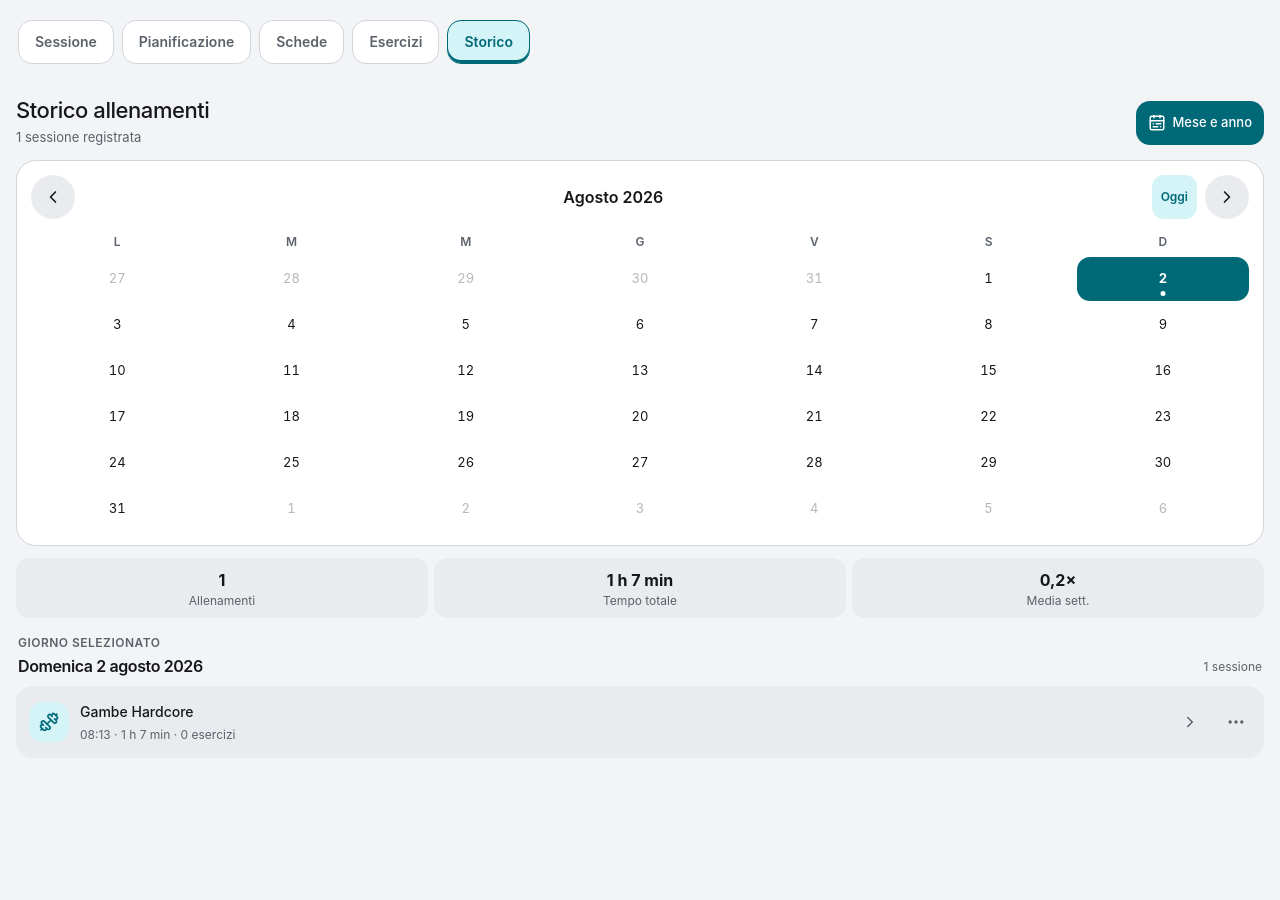
Workout Improvements & History Edit Suite › 4. Historical Workout Editing Flow › TrainingView full integration: edit from history switches sub-tab to session in edit mode
Click the button named "opzioni" at [1236, 722], box [1214, 700, 1258, 744]
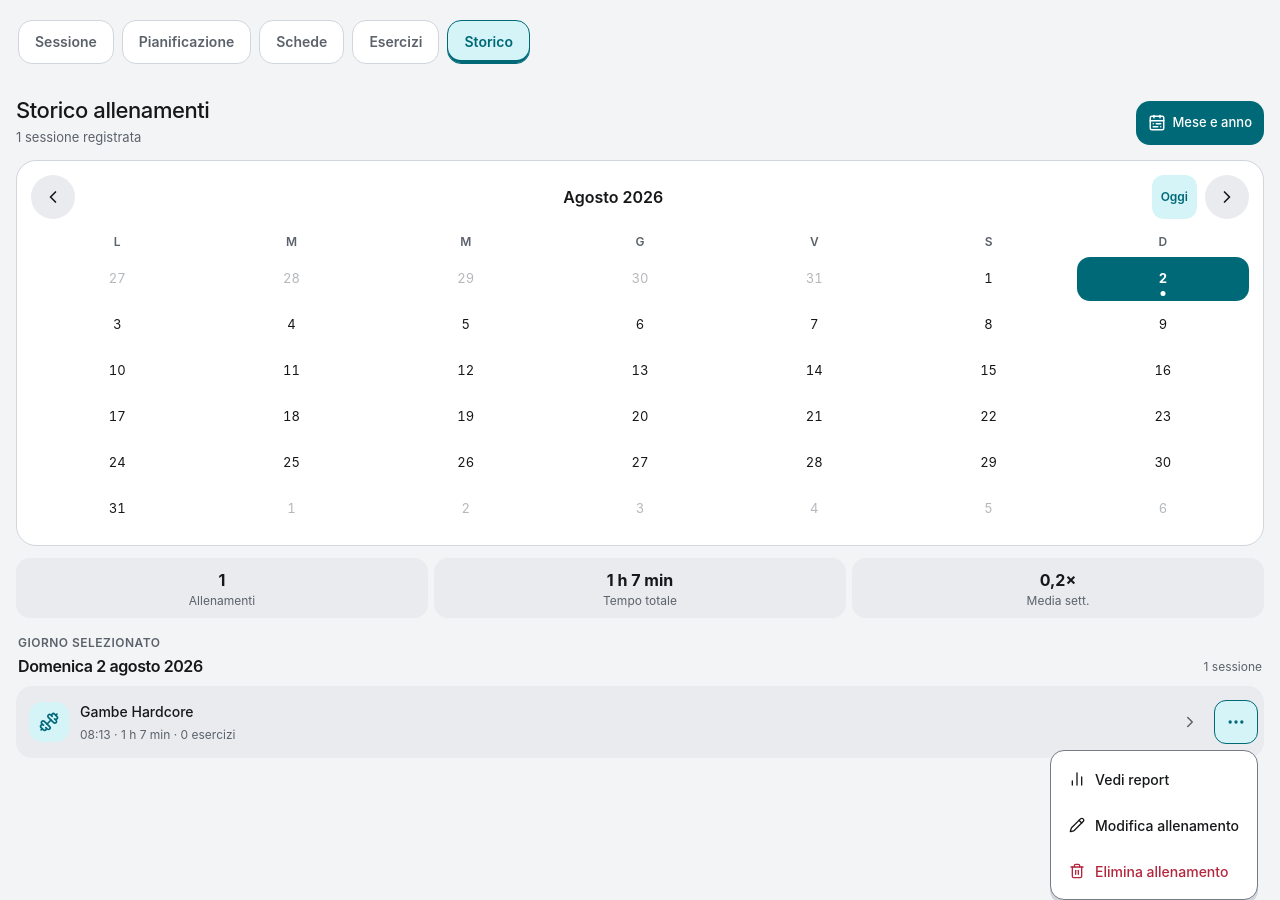
Click the menu item "Modifica allenamento" at [1154, 825], box [1057, 803, 1251, 847]
(page scrolled)
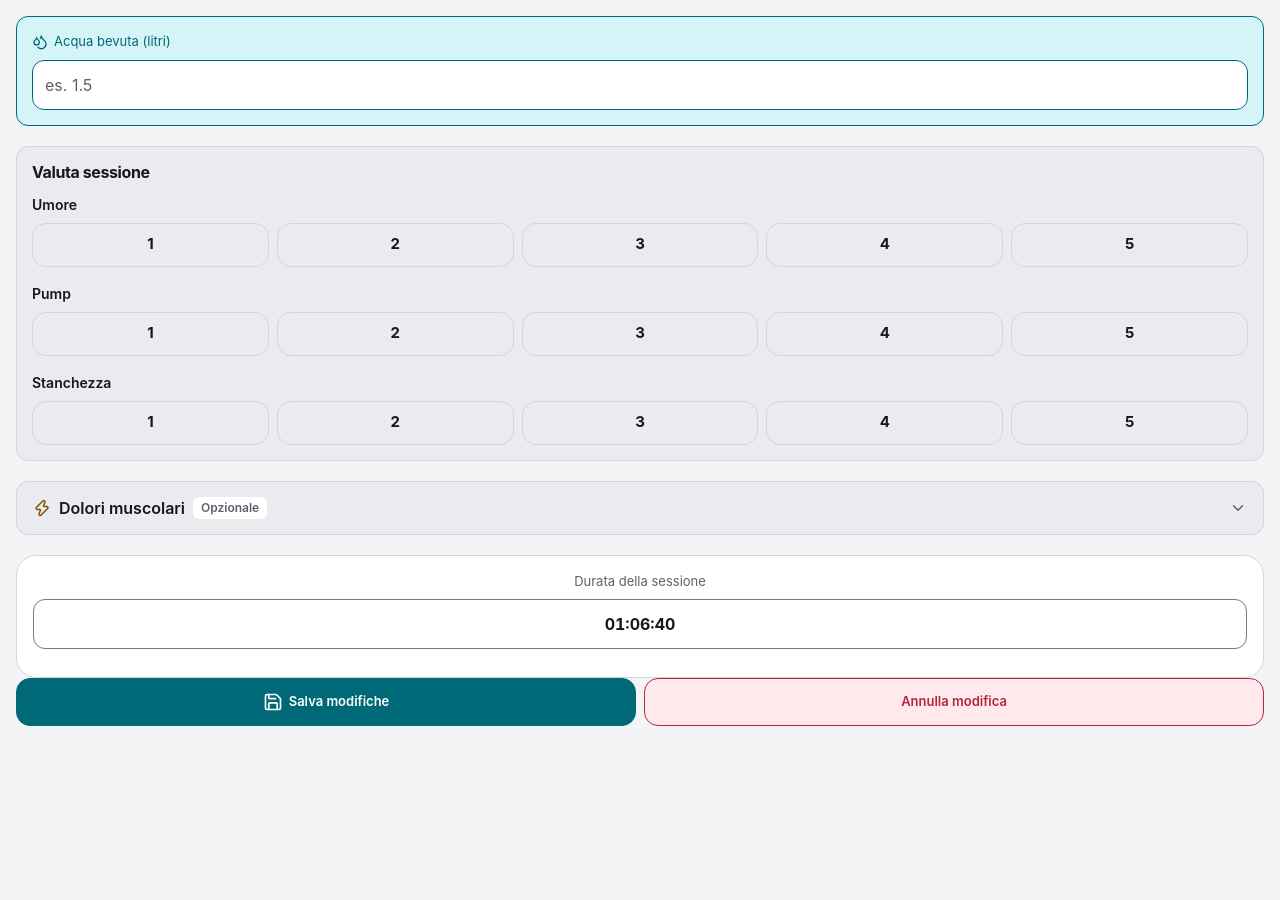
Check: the button "Salva modifiche" is shown, box [16, 678, 636, 726]
